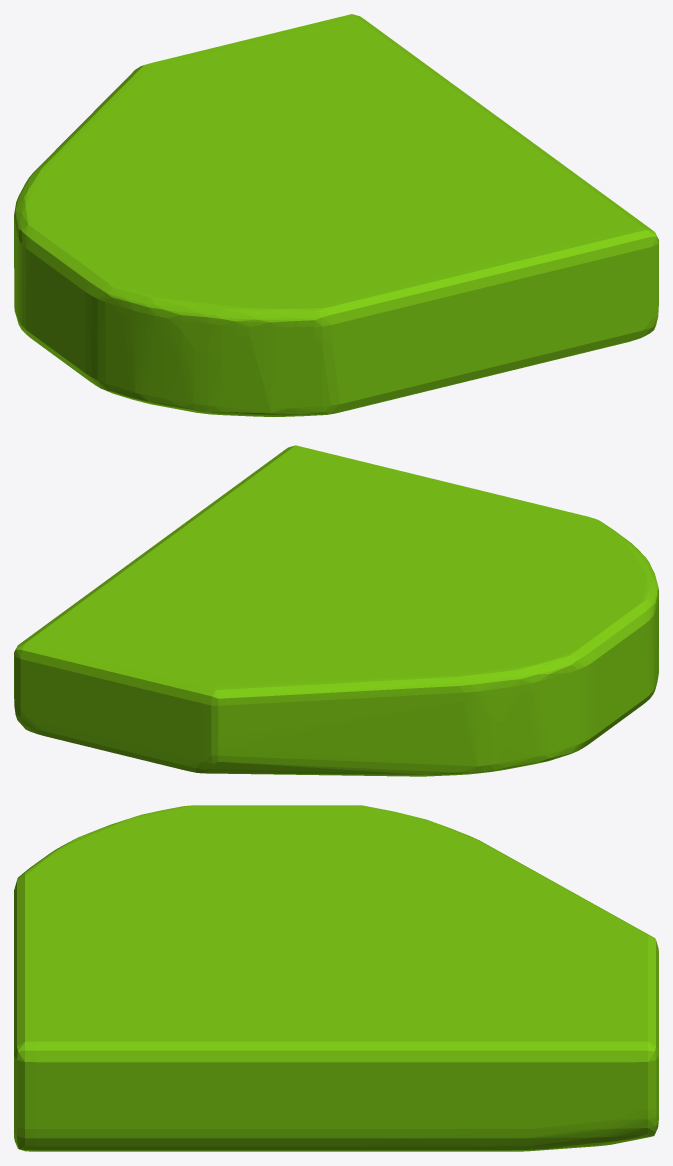
File: left_knee_link_part_4.obj
The picture shows the model from 3 angles, top to bottom: view 1: azimuth 30°, elevation 25°; view 2: azimuth 150°, elevation 25°; view 3: azimuth 270°, elevation 25°; orthographic projection. The views are drawn at different scales.
Bounding box in the file's own units: 0.1076 × 0.023 × 0.1176.
